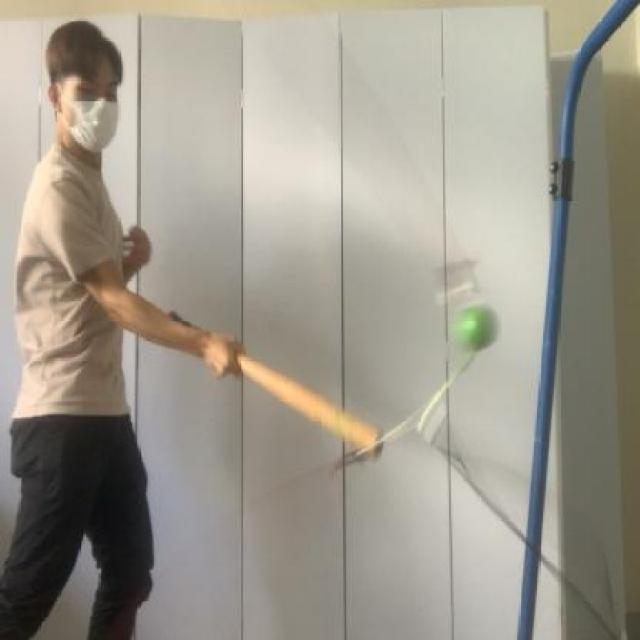baseball: (445, 292, 506, 371)
